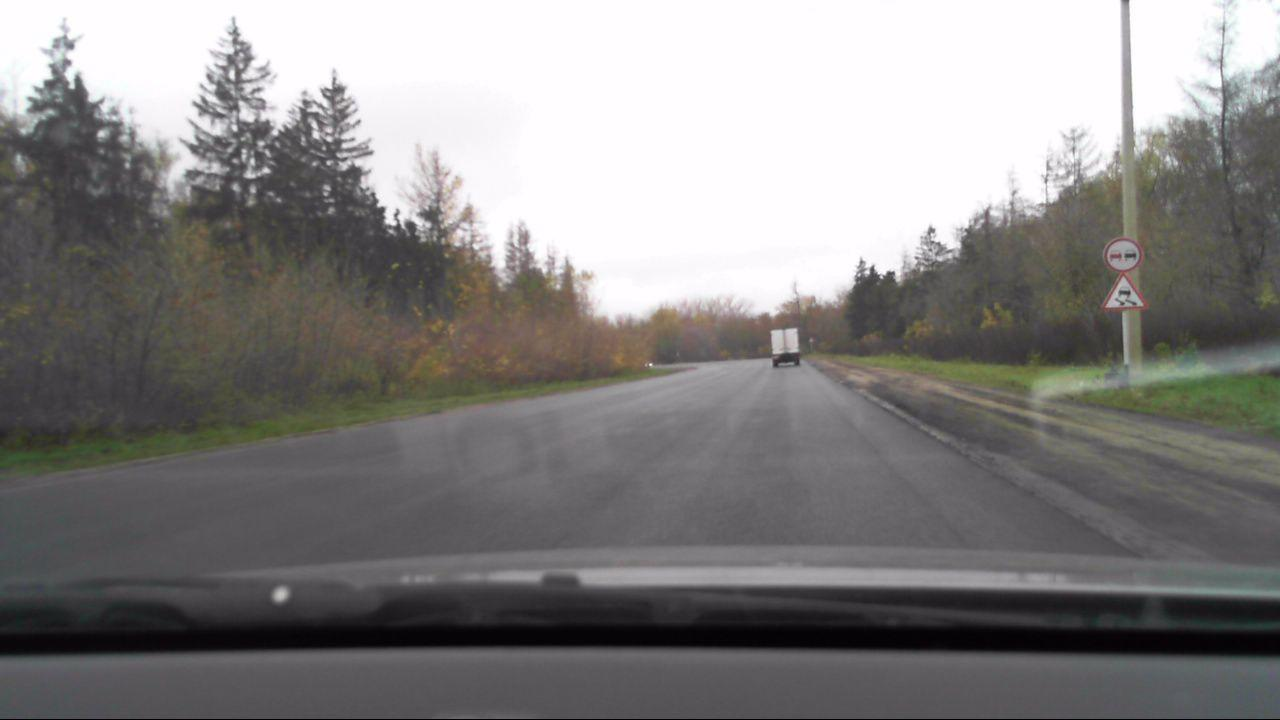1_15: (1105, 276, 1144, 311)
3_20: (1100, 231, 1143, 274)
